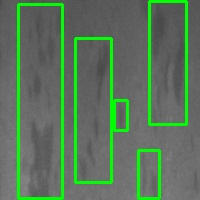inclusion: (18, 4, 62, 198), (75, 38, 111, 182), (149, 1, 186, 124), (138, 150, 159, 198), (114, 100, 127, 130)
